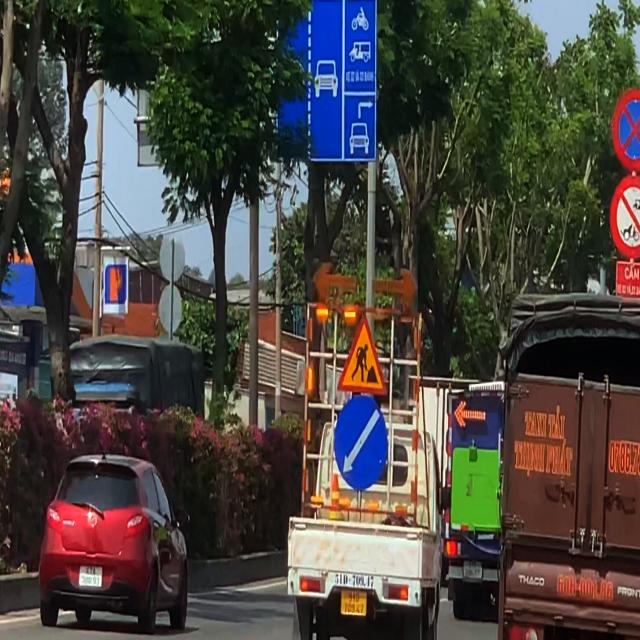Cam con lai: (609, 174, 640, 260)
Cam dung va do: (612, 89, 640, 171)
Hieu lenh: (333, 394, 388, 493)
Nguy hiem: (336, 315, 388, 398)
